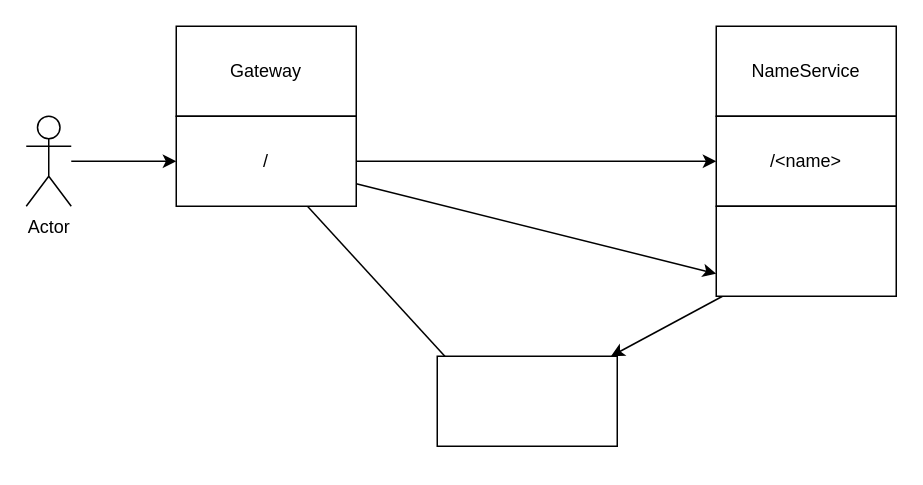
This 923x485 diagram has some shape labels left out. Each missing label, with the centre of its shape:
/process: point 805,250
Azure Storage Queue: point 526,400
